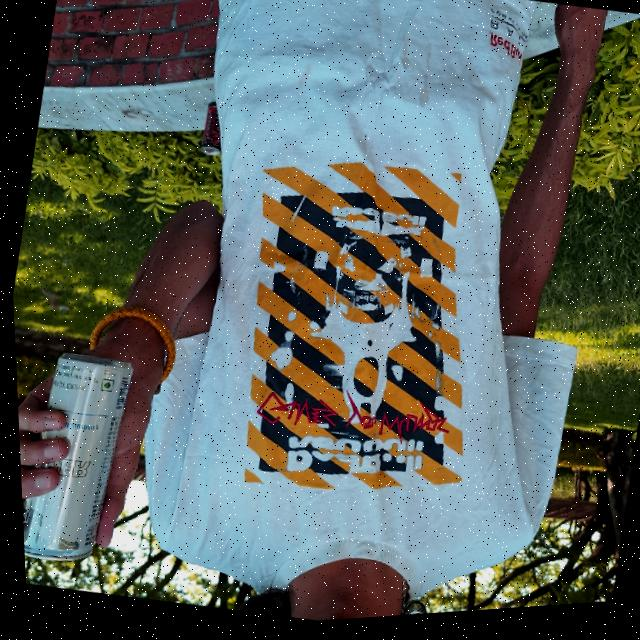Redbull Summer Edition: (12, 346, 140, 570)
